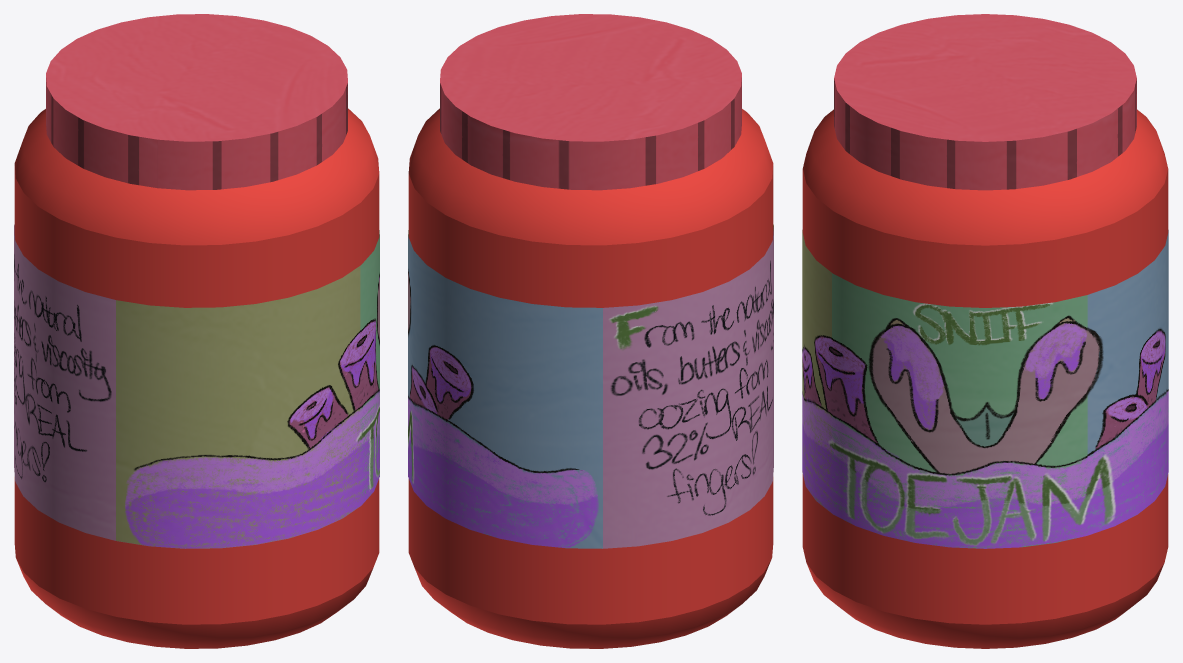
The model's file is Jar.fbx.
3 renders of one model, left to right at view 1: azimuth 30°, elevation 25°; view 2: azimuth 150°, elevation 25°; view 3: azimuth 270°, elevation 25°, orthographic.
Parts seen in each view (by area): view 1: CapLabel, JarPlastique; view 2: CapLabel, JarPlastique; view 3: CapLabel, JarPlastique.
Boxes of the visible parts, x1=… form: CapLabel: x1=14, y1=14, x2=379, y2=548; JarPlastique: x1=14, y1=108, x2=379, y2=648; CapLabel: x1=408, y1=14, x2=773, y2=548; JarPlastique: x1=408, y1=108, x2=773, y2=648; CapLabel: x1=802, y1=14, x2=1168, y2=548; JarPlastique: x1=802, y1=109, x2=1168, y2=648.
Size of the model in its own units: 107 by 107 by 162.
